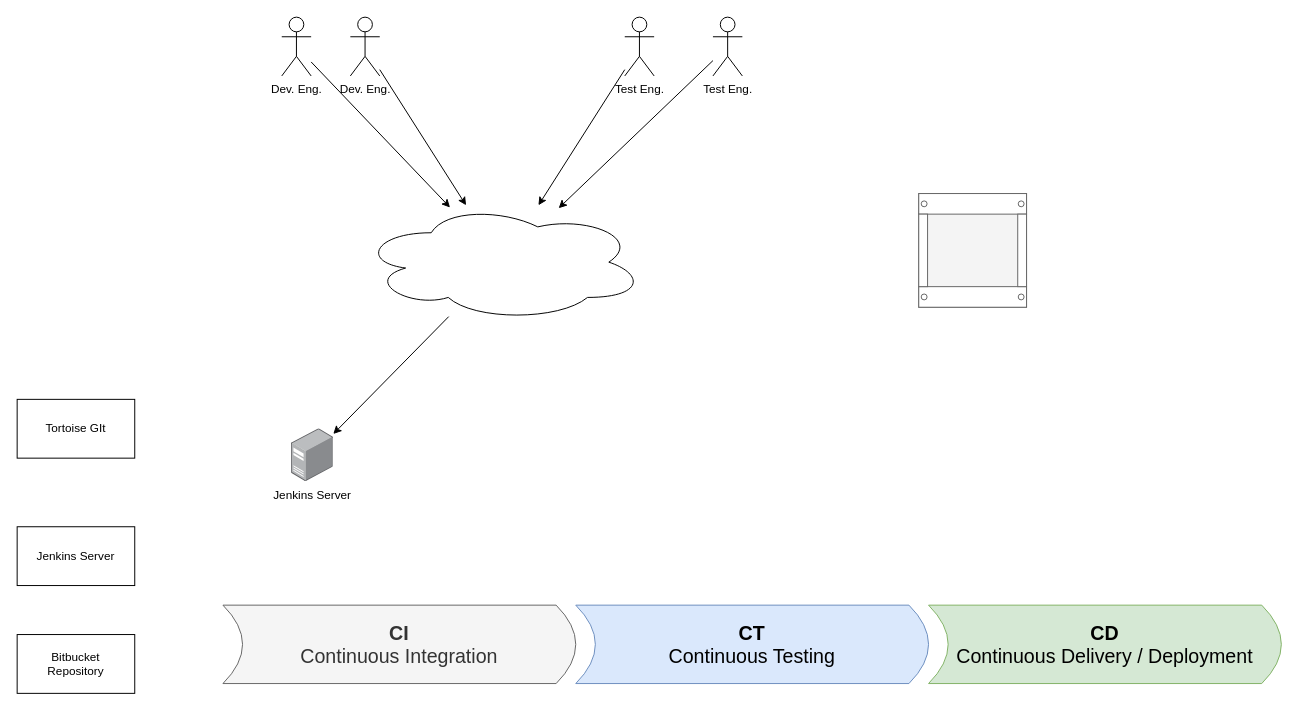
The diagram is 1299 pixels wide and 711 high, and some of its shapes have lost their labels. The shapes that lost their labels are listed below. From the top down, each one's centre as x and y in pixels, then its label:
At point (501, 261): "Bitbucket".
At point (972, 247): "Test Rig".
